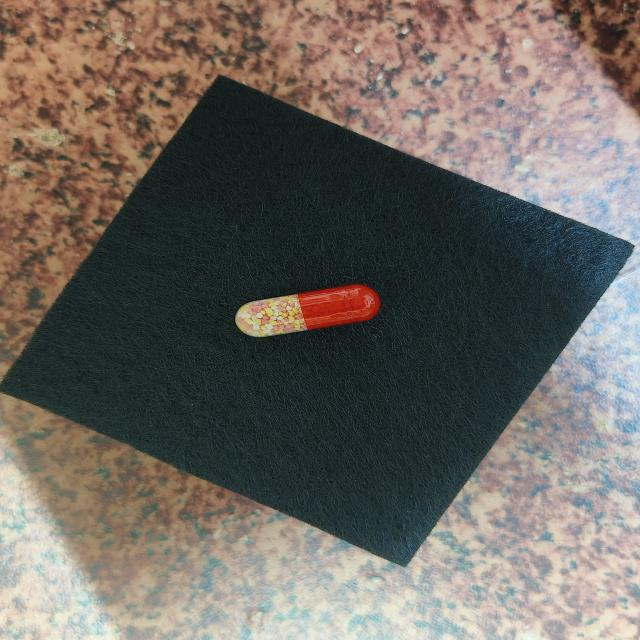Intact Capsule: (235, 284, 381, 337)
